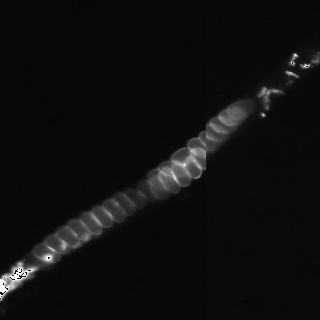embryo: (224, 98, 255, 120), (102, 198, 128, 222), (68, 217, 92, 243), (157, 166, 180, 193), (32, 242, 60, 263), (23, 251, 52, 271), (157, 160, 189, 178), (147, 169, 172, 192), (43, 233, 69, 255), (80, 211, 103, 235), (56, 225, 80, 248), (113, 192, 136, 215), (148, 175, 169, 200), (91, 206, 114, 228), (171, 161, 191, 186), (220, 107, 246, 126), (138, 180, 160, 201), (211, 117, 237, 134), (124, 188, 146, 208), (170, 147, 193, 166), (187, 138, 207, 159), (199, 132, 220, 151), (207, 123, 229, 141), (186, 155, 202, 179), (191, 147, 206, 170)
